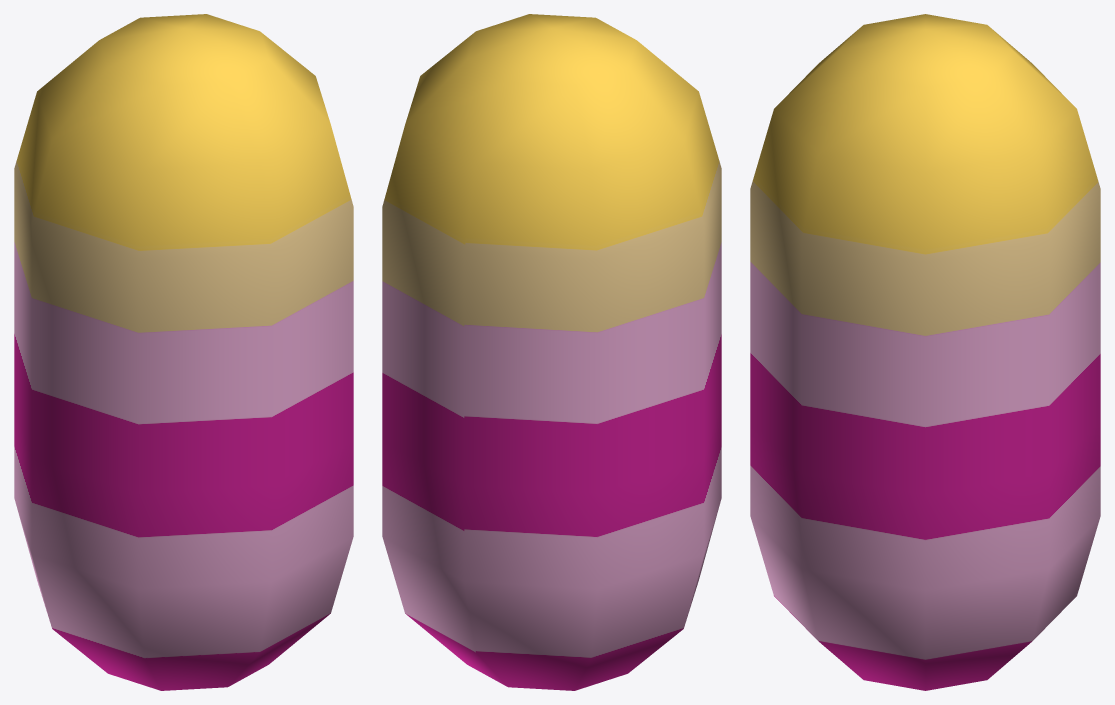
Rendered from People_MDL.fbx.
The picture shows the model from 3 angles, left to right: view 1: azimuth 30°, elevation 25°; view 2: azimuth 150°, elevation 25°; view 3: azimuth 270°, elevation 25°; orthographic projection.
Visible parts, largest first — view 1: pCylinder1; view 2: pCylinder1; view 3: pCylinder1.
Boxes of the visible parts, left/top/right/bottom form: pCylinder1: left=14, top=14, right=353, bottom=690; pCylinder1: left=382, top=14, right=721, bottom=690; pCylinder1: left=750, top=14, right=1100, bottom=690.
Bounding box in the file's own units: 2 × 4.07 × 2.
